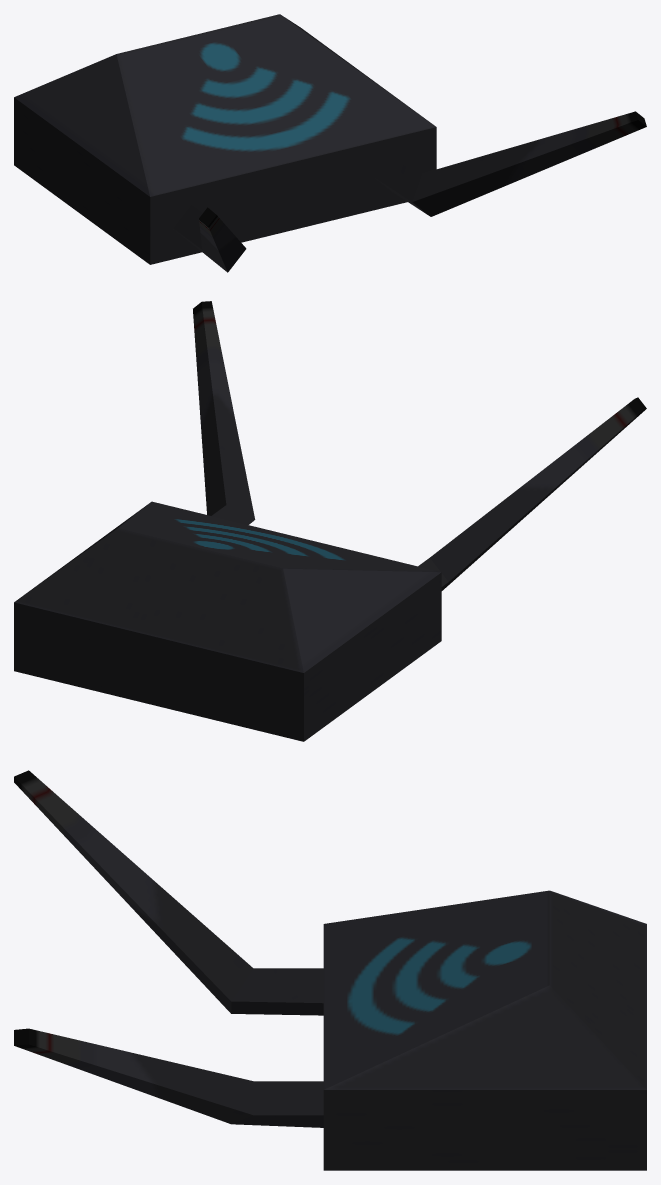
File: Appliance_1.fbx
3 renders of one model, top to bottom at view 1: azimuth 30°, elevation 25°; view 2: azimuth 150°, elevation 25°; view 3: azimuth 270°, elevation 25°, orthographic. The views are drawn at different scales.
Parts seen in each view (by area): view 1: Appliance.049; view 2: Appliance.049; view 3: Appliance.049.
Boxes of the visible parts, x1,y1,x2,y2 form: Appliance.049: (14,14,646,272); Appliance.049: (14,301,646,741); Appliance.049: (14,770,646,1170).
Bounding box in the file's own units: 42.64 × 15.08 × 44.2.
